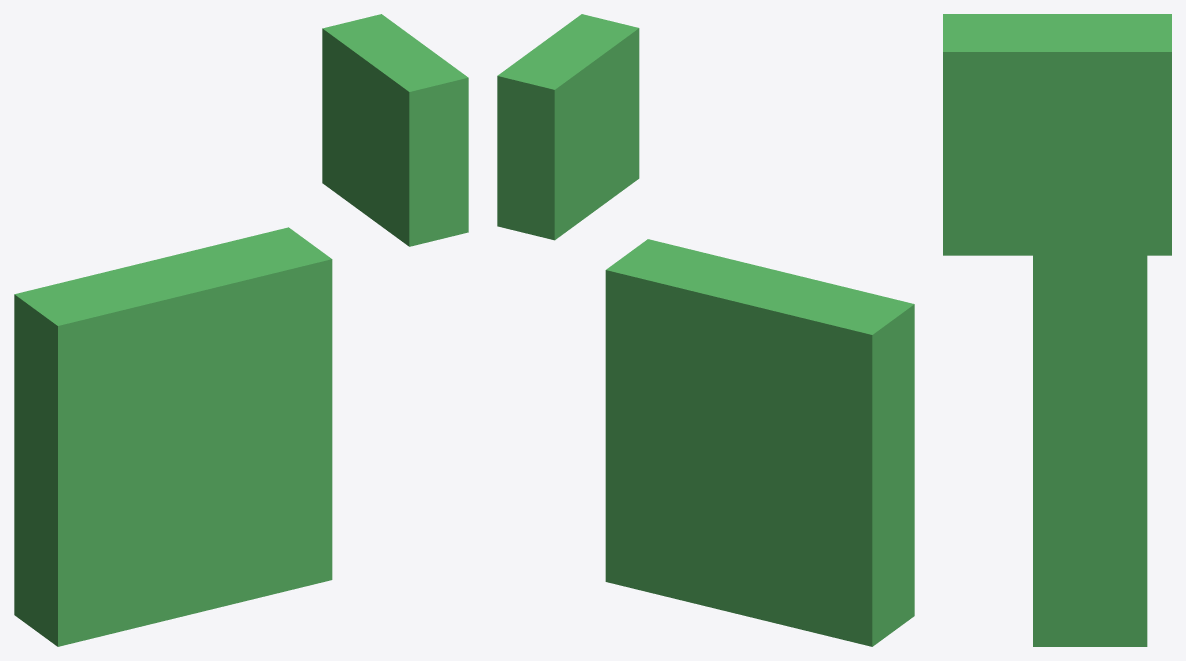
File: veteran_role_kit_collision.glb
3 views of the same model, side by side, from view 1: azimuth 30°, elevation 25°; view 2: azimuth 150°, elevation 25°; view 3: azimuth 270°, elevation 25° (orthographic). The views are drawn at different scales.
Visible parts, largest first — view 1: veteran_role_kit-col-shield, veteran_role_kit-col-crest; view 2: veteran_role_kit-col-shield, veteran_role_kit-col-crest; view 3: veteran_role_kit-col-crest, veteran_role_kit-col-shield.
Boxes of the visible parts, <box> form: veteran_role_kit-col-shield: <box>14,227,332,646</box>; veteran_role_kit-col-crest: <box>322,14,468,246</box>; veteran_role_kit-col-shield: <box>605,239,914,646</box>; veteran_role_kit-col-crest: <box>497,14,639,240</box>; veteran_role_kit-col-crest: <box>943,14,1171,255</box>; veteran_role_kit-col-shield: <box>1033,255,1147,646</box>.
Size of the model in its own units: 1.4 by 1.78 by 0.56.
